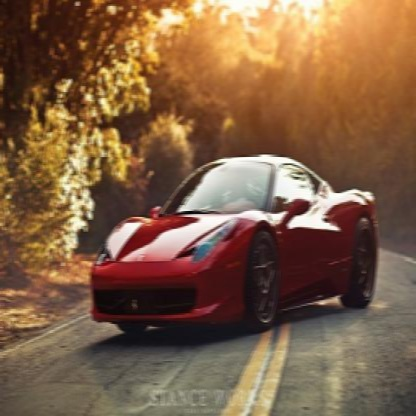Vehicle: (89, 153, 379, 333)
